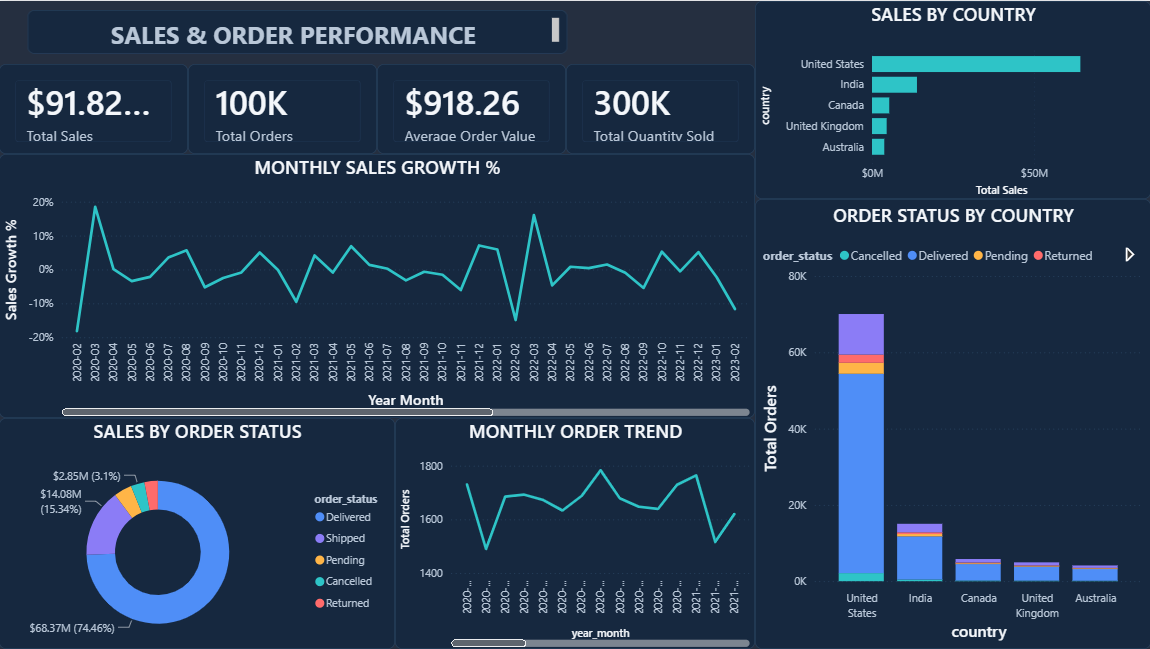

Layout of this report page (visuals, bound fields, positions):
{"tool":"powerbi","page":{"name":"Sales & Order Performance","canvas":[1280,720],"ordinal":2},"visuals":[{"type":"textbox","box":[31.7,10,600,48.3],"z":0},{"type":"cardVisual","fields":{"Data":["ecommerce amazon_sales.Total Sales"]},"box":[0,70,210,100],"z":1000},{"type":"cardVisual","fields":{"Data":["ecommerce amazon_sales.Total Orders"]},"box":[210,70,210,100],"z":2000},{"type":"cardVisual","fields":{"Data":["ecommerce amazon_sales.Average Order Value"]},"box":[420,70,210,100],"z":3000},{"type":"cardVisual","fields":{"Data":["Sum(ecommerce amazon_sales.quantity)"]},"box":[630,70,210,100],"z":4000},{"type":"donutChart","title":"SALES BY ORDER STATUS","fields":{"Category":["ecommerce amazon_sales.order_status"],"Y":["ecommerce amazon_sales.Total Sales"]},"box":[0,463.3,440,256.7],"z":5000},{"type":"lineChart","title":"MONTHLY ORDER TREND","fields":{"Category":["ecommerce amazon_sales.year_month"],"Y":["ecommerce amazon_sales.Total Orders"]},"box":[440,463.3,400,256.7],"z":6000},{"type":"clusteredBarChart","title":"SALES BY COUNTRY","fields":{"Category":["ecommerce amazon_sales.country"],"Y":["ecommerce amazon_sales.Total Sales"]},"box":[840,0,440,220],"z":7000},{"type":"lineChart","title":"MONTHLY SALES GROWTH %","fields":{"Y":["ecommerce amazon_sales.Sales Growth %"],"Category":["DateTable.Year Month"]},"box":[0,170,840,293.3],"z":8000},{"type":"columnChart","title":"ORDER STATUS BY COUNTRY","fields":{"Category":["ecommerce amazon_sales.country"],"Y":["ecommerce amazon_sales.Total Orders"],"Series":["ecommerce amazon_sales.order_status"]},"box":[840,220,440,500],"z":9000}]}

Visuals, with their boxes in screenshot pixels (x1, y1, x2, y2), scaled from the page's 1280x720 canvas onto the 1150x649 screenshot:
textbox: Rect(28, 9, 568, 53)
cardVisual - ecommerce amazon_sales.Total Sales: Rect(0, 63, 189, 153)
cardVisual - ecommerce amazon_sales.Total Orders: Rect(189, 63, 377, 153)
cardVisual - ecommerce amazon_sales.Average Order Value: Rect(377, 63, 566, 153)
cardVisual - Sum(ecommerce amazon_sales.quantity): Rect(566, 63, 755, 153)
"SALES BY ORDER STATUS" donutChart: Rect(0, 418, 395, 648)
"MONTHLY ORDER TREND" lineChart: Rect(395, 418, 755, 648)
"SALES BY COUNTRY" clusteredBarChart: Rect(755, 0, 1149, 198)
"MONTHLY SALES GROWTH %" lineChart: Rect(0, 153, 755, 418)
"ORDER STATUS BY COUNTRY" columnChart: Rect(755, 198, 1149, 648)
